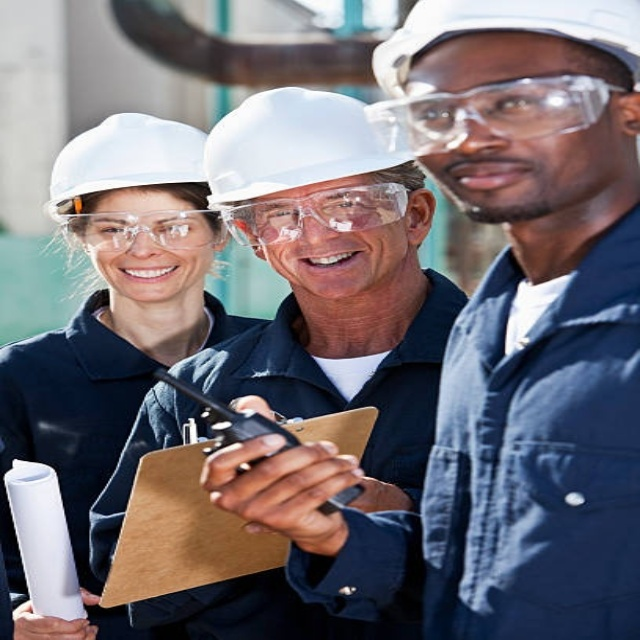Gafas: (369, 74, 625, 152), (218, 182, 411, 248), (61, 207, 228, 252)
Sin_guantes: (200, 420, 369, 546), (11, 596, 96, 640)
Sin_mascara: (436, 155, 551, 211), (293, 245, 378, 288), (108, 259, 187, 293)
